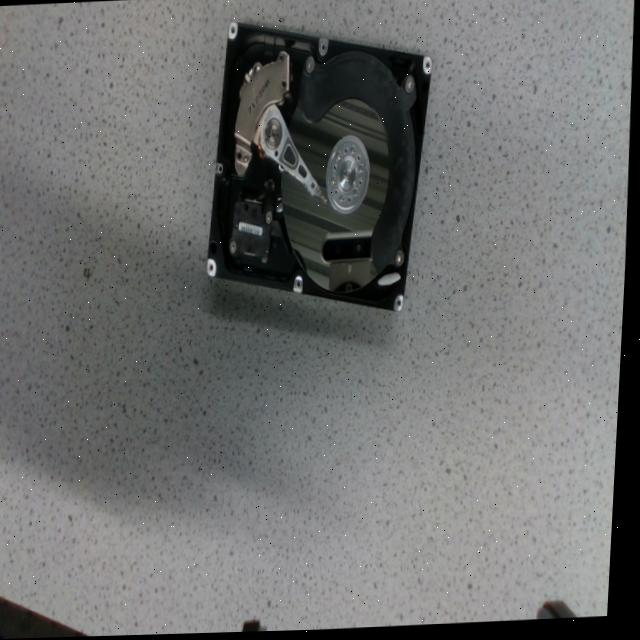actuator arm: (257, 106, 322, 197)
actuator axis: (266, 120, 282, 148)
case: (208, 23, 432, 314)
magnet: (237, 53, 289, 149)
pcb connector: (232, 203, 273, 263)
platter: (283, 100, 392, 293)
platter holder: (329, 138, 371, 214)
platter protector: (298, 53, 417, 275), (352, 147, 358, 158)
screw: (405, 77, 415, 95), (306, 58, 315, 75), (398, 252, 407, 268), (232, 240, 239, 255), (267, 212, 274, 224), (360, 166, 367, 177), (337, 153, 344, 163), (332, 177, 338, 188), (355, 189, 361, 200), (341, 196, 347, 205)
